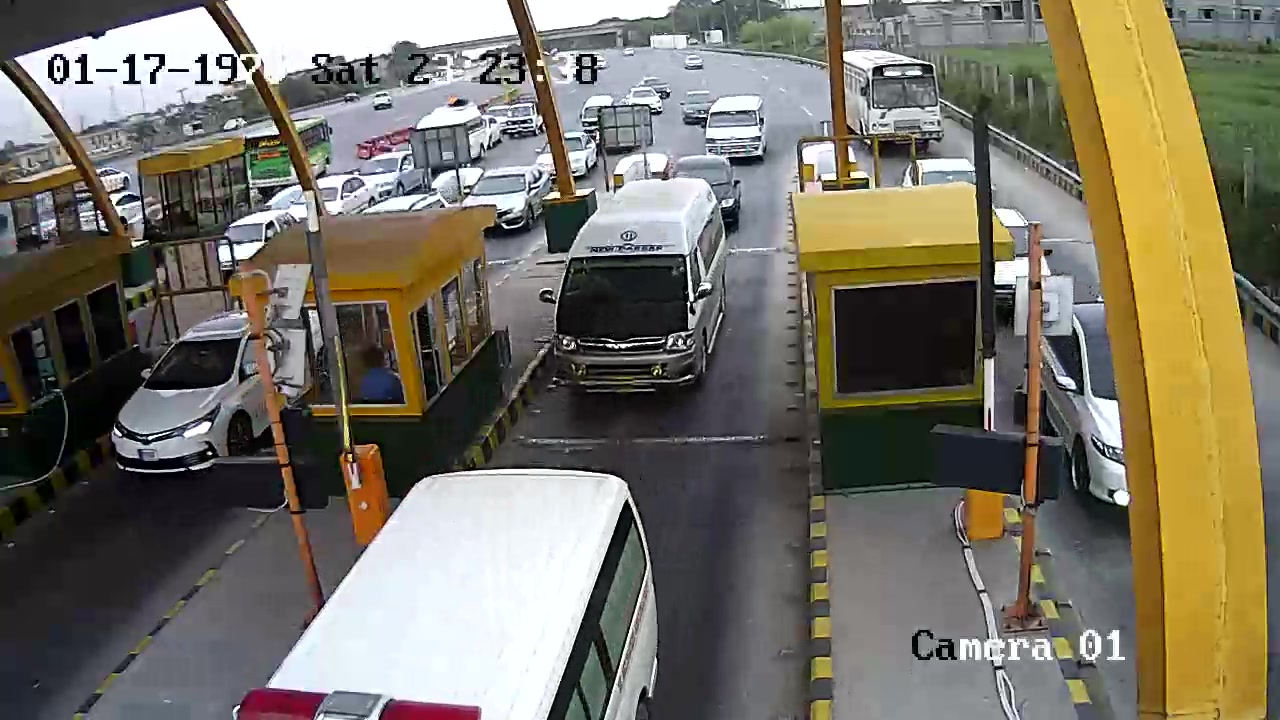F2: (545, 176, 724, 406)
